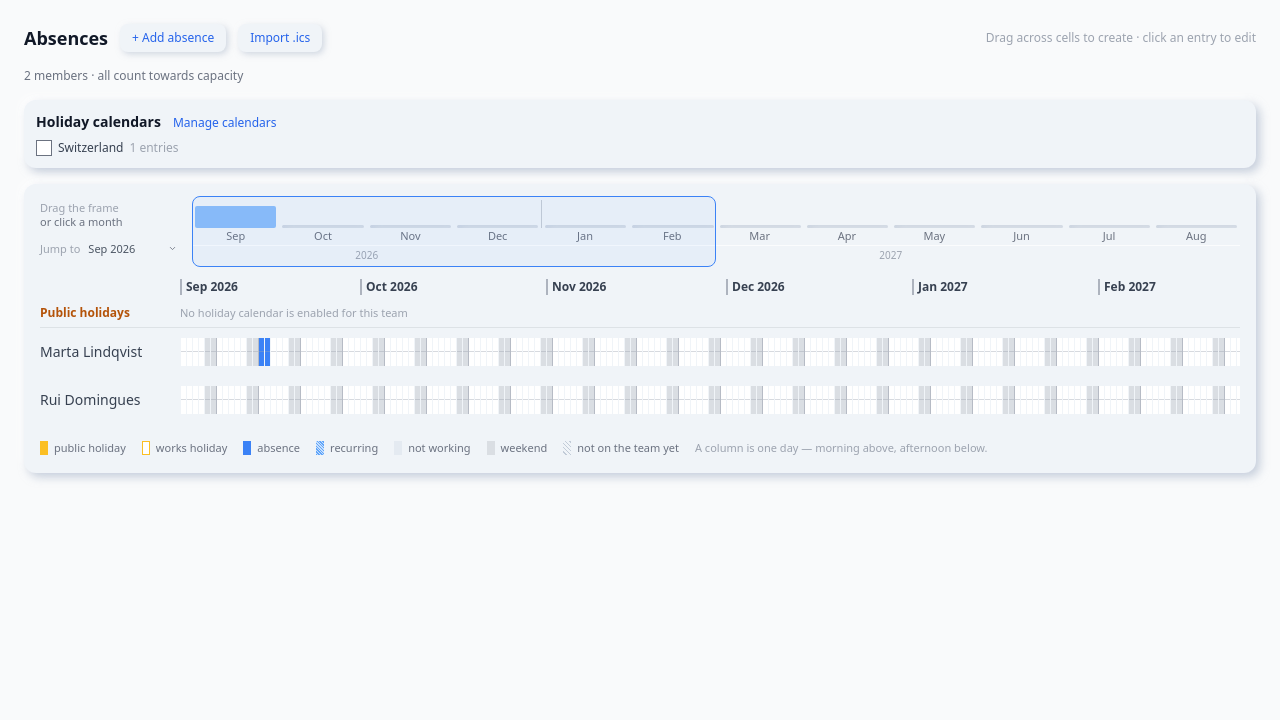
Test: AbsencesView › selects an entry when its cell is clicked, with delete beside edit
Expected: the table named "absences by member" is shown, [40,328,1240,424]
Click the cell titled "Marta Lindqvist · 2026-09-14 am".
click(262, 345)  # box [259,338,264,352]
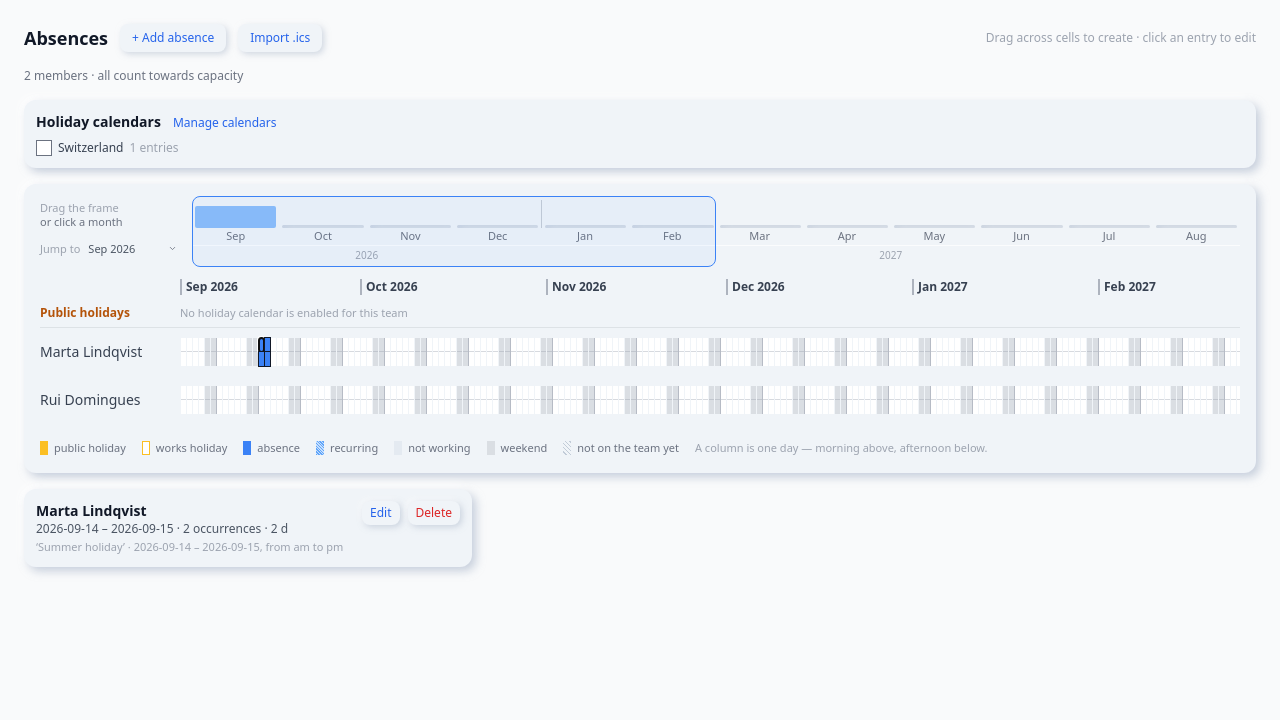
Expected: the button with aria-label "delete absence for Marta" is shown, [408,500,460,524]
Expected: the button with aria-label "edit absence for Marta" is shown, [362,500,400,524]
Expected: the text "‘Summer holiday’ · 2026-09-14 – 2026-09-15, from am to pm" is shown, [36,538,350,555]
